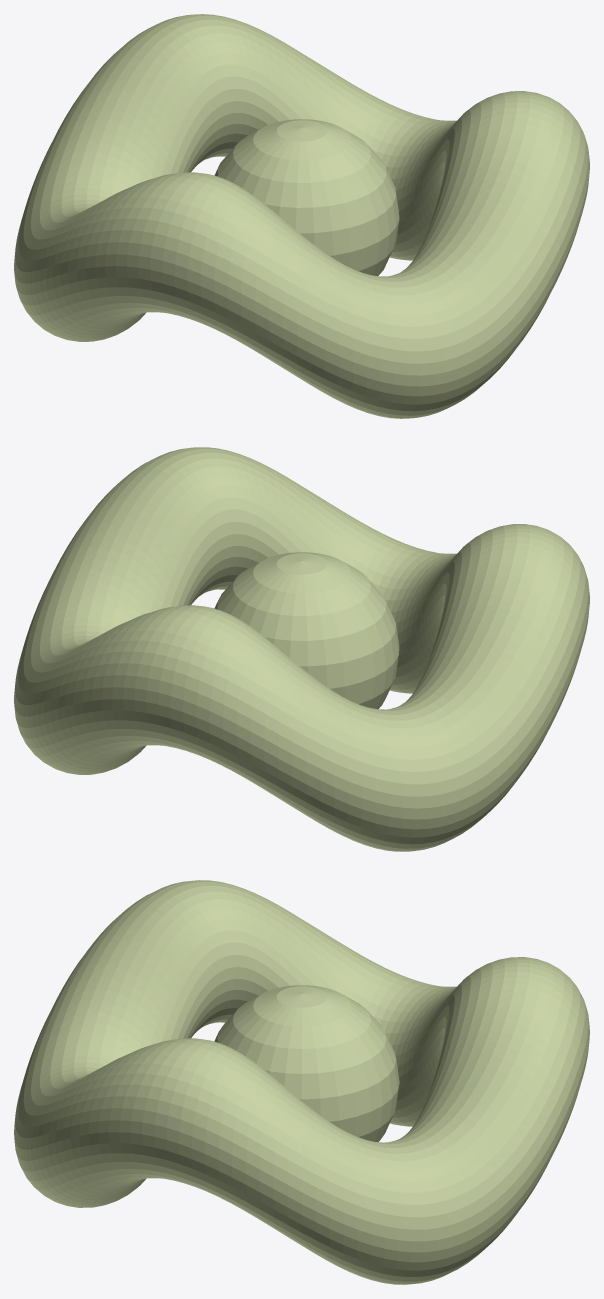
The model's file is orbit.glb.
The picture shows the model from 3 angles, top to bottom: view 1: azimuth 30°, elevation 25°; view 2: azimuth 150°, elevation 25°; view 3: azimuth 270°, elevation 25°; orthographic projection.
Size of the model in its own units: 3.42 by 1.52 by 3.42.
